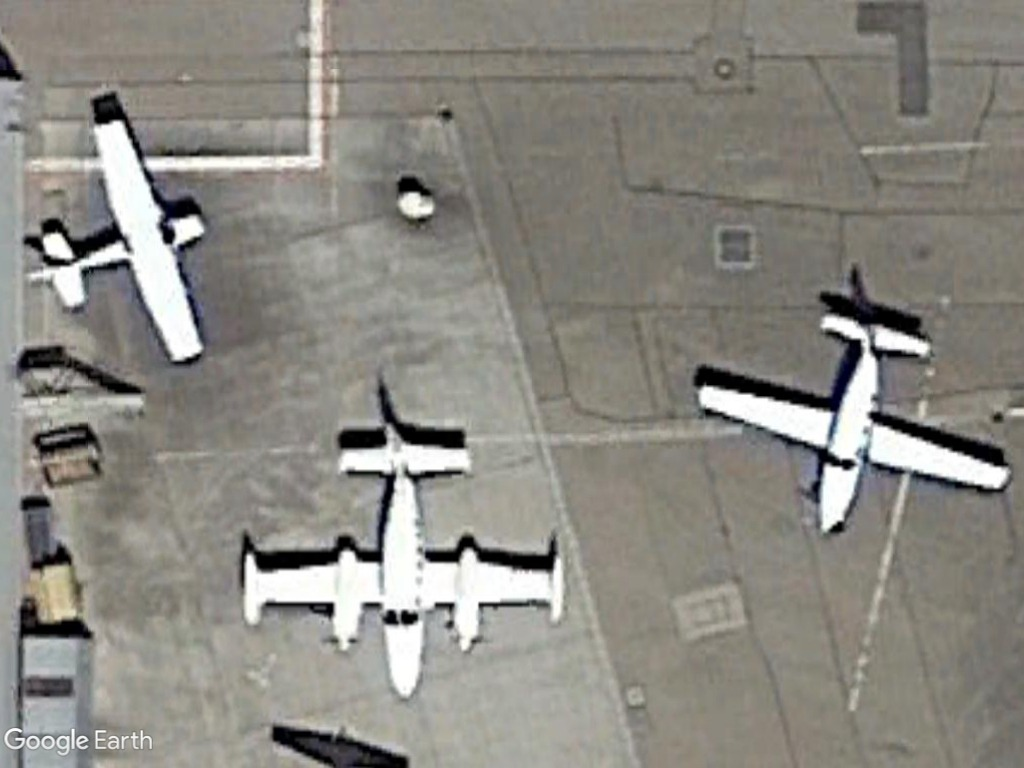propeller: (225, 437, 581, 705)
trainer: (690, 293, 1015, 538), (36, 115, 225, 373)
